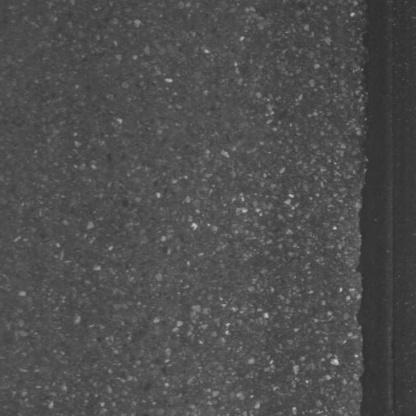Cracks: (384, 0, 403, 416)
